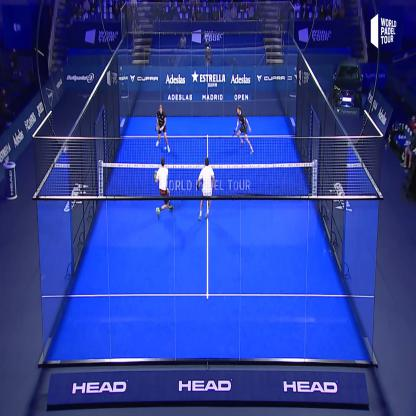ball: (162, 142, 168, 154)
